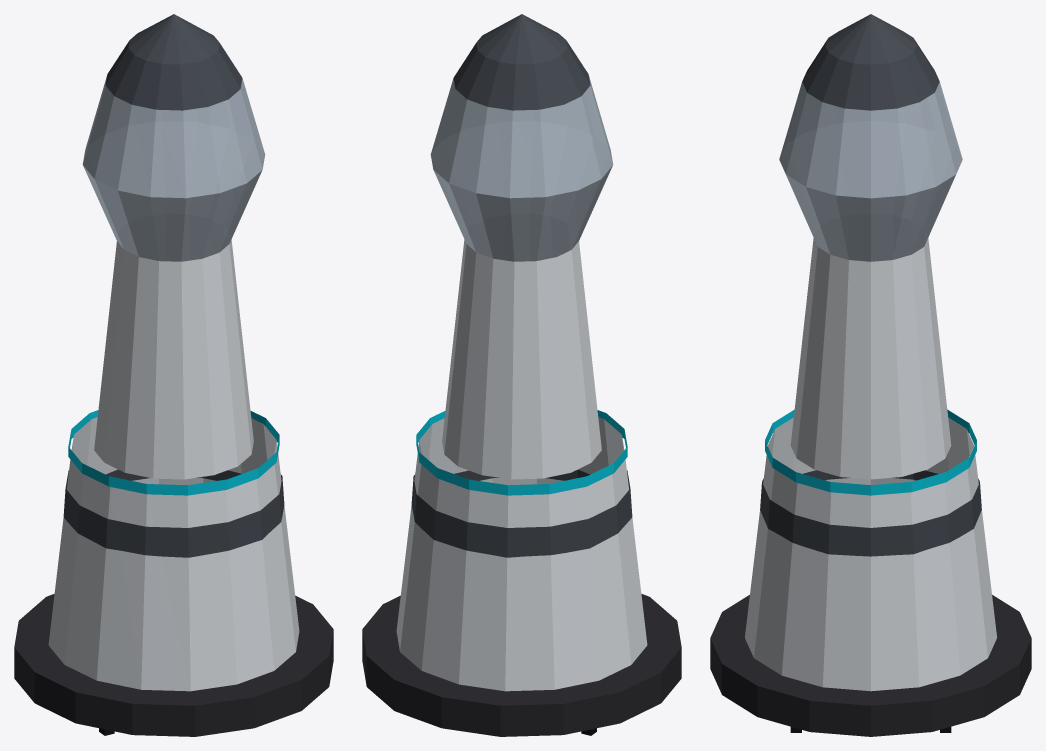
File: uv_robot_detailed.obj
The picture shows the model from 3 angles, left to right: view 1: azimuth 30°, elevation 25°; view 2: azimuth 150°, elevation 25°; view 3: azimuth 270°, elevation 25°; orthographic projection.
Parts seen in each view (by area): view 1: Lower_Body, Upper_Neck, Lamp_Housing, Base_Platform, Top_Dome, Control_Panel, Status_Ring; view 2: Lower_Body, Upper_Neck, Lamp_Housing, Base_Platform, Top_Dome, Control_Panel, Status_Ring; view 3: Lower_Body, Upper_Neck, Lamp_Housing, Base_Platform, Top_Dome, Control_Panel, Status_Ring.
Boxes of the visible parts, bbox=[...] form: Lower_Body: bbox=[48, 417, 299, 691]; Upper_Neck: bbox=[94, 239, 253, 479]; Lamp_Housing: bbox=[82, 75, 265, 261]; Base_Platform: bbox=[14, 594, 333, 736]; Top_Dome: bbox=[105, 14, 242, 110]; Control_Panel: bbox=[63, 469, 284, 557]; Status_Ring: bbox=[68, 410, 279, 495]; Lower_Body: bbox=[396, 417, 647, 691]; Upper_Neck: bbox=[442, 239, 601, 479]; Lamp_Housing: bbox=[430, 75, 613, 261]; Base_Platform: bbox=[362, 594, 681, 736]; Top_Dome: bbox=[453, 14, 590, 110]; Control_Panel: bbox=[411, 469, 632, 557]; Status_Ring: bbox=[416, 410, 627, 495]; Lower_Body: bbox=[745, 417, 996, 691]; Upper_Neck: bbox=[790, 238, 951, 479]; Lamp_Housing: bbox=[779, 82, 962, 261]; Base_Platform: bbox=[710, 595, 1031, 736]; Top_Dome: bbox=[802, 14, 939, 110]; Control_Panel: bbox=[760, 470, 981, 556]; Status_Ring: bbox=[765, 409, 976, 495].
Size of the model in its own units: 0.56 by 1.28 by 0.56.
